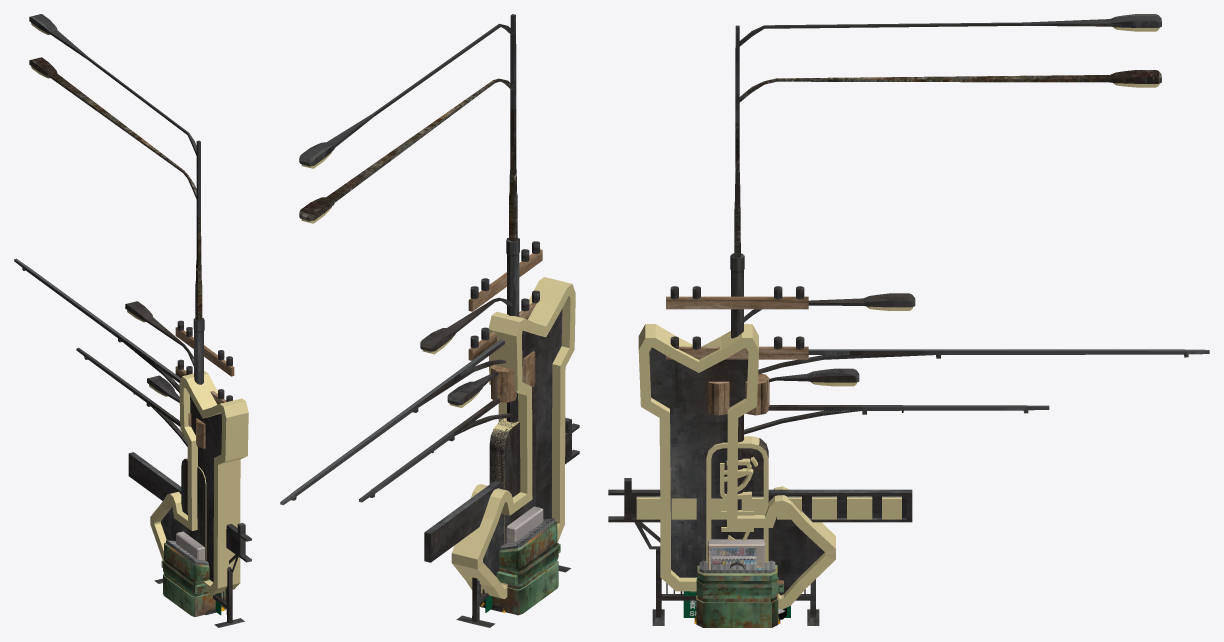
File: Environment Assets.fbx
3 renders of one model, left to right at view 1: azimuth 30°, elevation 25°; view 2: azimuth 150°, elevation 25°; view 3: azimuth 270°, elevation 25°, orthographic. The views are drawn at different scales.
Visible parts, largest first — view 1: SignArrow, BigTrashcan, TrafficLightStreetLamp_TallLong, UtilityPole, TrafficLightStreetLamp_Tall, SignCube, TrafficLightStreetLamp, NeonSign, SignRamen, StreetFence, Vending Machine, TrafficLightStreetLamp_Long (+1 smaller); view 2: SignArrow, UtilityPole, TrafficLightStreetLamp_TallLong, BigTrashcan, TrafficLightStreetLamp_Tall, SignCube, NeonSign, SignRamen, TrafficLightStreetLamp, Vending Machine, TrafficLightStreetLamp_Long, StreetLamp (+1 smaller); view 3: SignArrow, SignCube, UtilityPole, TrafficLightStreetLamp_TallLong, BigTrashcan, TrafficLightStreetLamp_Tall, TrafficLightStreetLamp, NeonSign, Vending Machine, SignRamen, StreetFence, TrafficLightStreetLamp_Long (+1 smaller).
Boxes of the visible parts, x1,y1,x2,y2 form: SignArrow: (150, 371, 248, 594); BigTrashcan: (161, 540, 226, 616); TrafficLightStreetLamp_TallLong: (14, 14, 200, 392); UtilityPole: (175, 318, 234, 448); TrafficLightStreetLamp_Tall: (29, 57, 202, 320); SignCube: (128, 452, 251, 572); TrafficLightStreetLamp: (125, 301, 193, 446); NeonSign: (181, 458, 206, 560); SignRamen: (181, 464, 205, 560); StreetFence: (154, 567, 244, 627); Vending Machine: (176, 531, 204, 560); TrafficLightStreetLamp_Long: (76, 347, 151, 406); SignArrow: (451, 277, 575, 598); UtilityPole: (468, 237, 542, 422); TrafficLightStreetLamp_TallLong: (280, 14, 516, 505); BigTrashcan: (479, 518, 560, 615); TrafficLightStreetLamp_Tall: (299, 78, 517, 241); SignCube: (424, 417, 579, 562); NeonSign: (490, 417, 535, 544); SignRamen: (489, 417, 535, 543); TrafficLightStreetLamp: (420, 297, 513, 453); Vending Machine: (506, 506, 543, 542); TrafficLightStreetLamp_Long: (359, 431, 454, 502); StreetLamp: (447, 372, 498, 407); SignArrow: (638, 324, 835, 609); SignCube: (608, 478, 912, 549); UtilityPole: (666, 253, 808, 510); TrafficLightStreetLamp_TallLong: (735, 14, 1209, 374); BigTrashcan: (691, 560, 783, 627); TrafficLightStreetLamp_Tall: (734, 70, 1161, 256); TrafficLightStreetLamp: (743, 293, 915, 434); NeonSign: (706, 436, 768, 562); Vending Machine: (707, 539, 764, 569); SignRamen: (706, 438, 768, 562); StreetFence: (652, 546, 819, 625); TrafficLightStreetLamp_Long: (862, 405, 1049, 414).
Size of the model in its own units: 91.22 by 1074 by 976.
